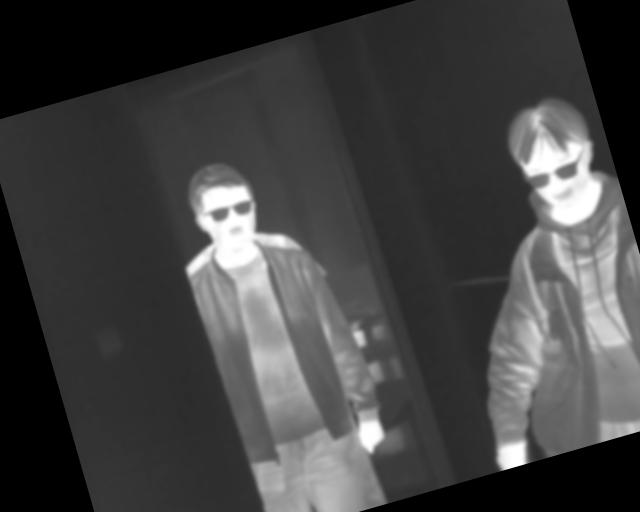face: (499, 88, 609, 219), (181, 157, 268, 263)
